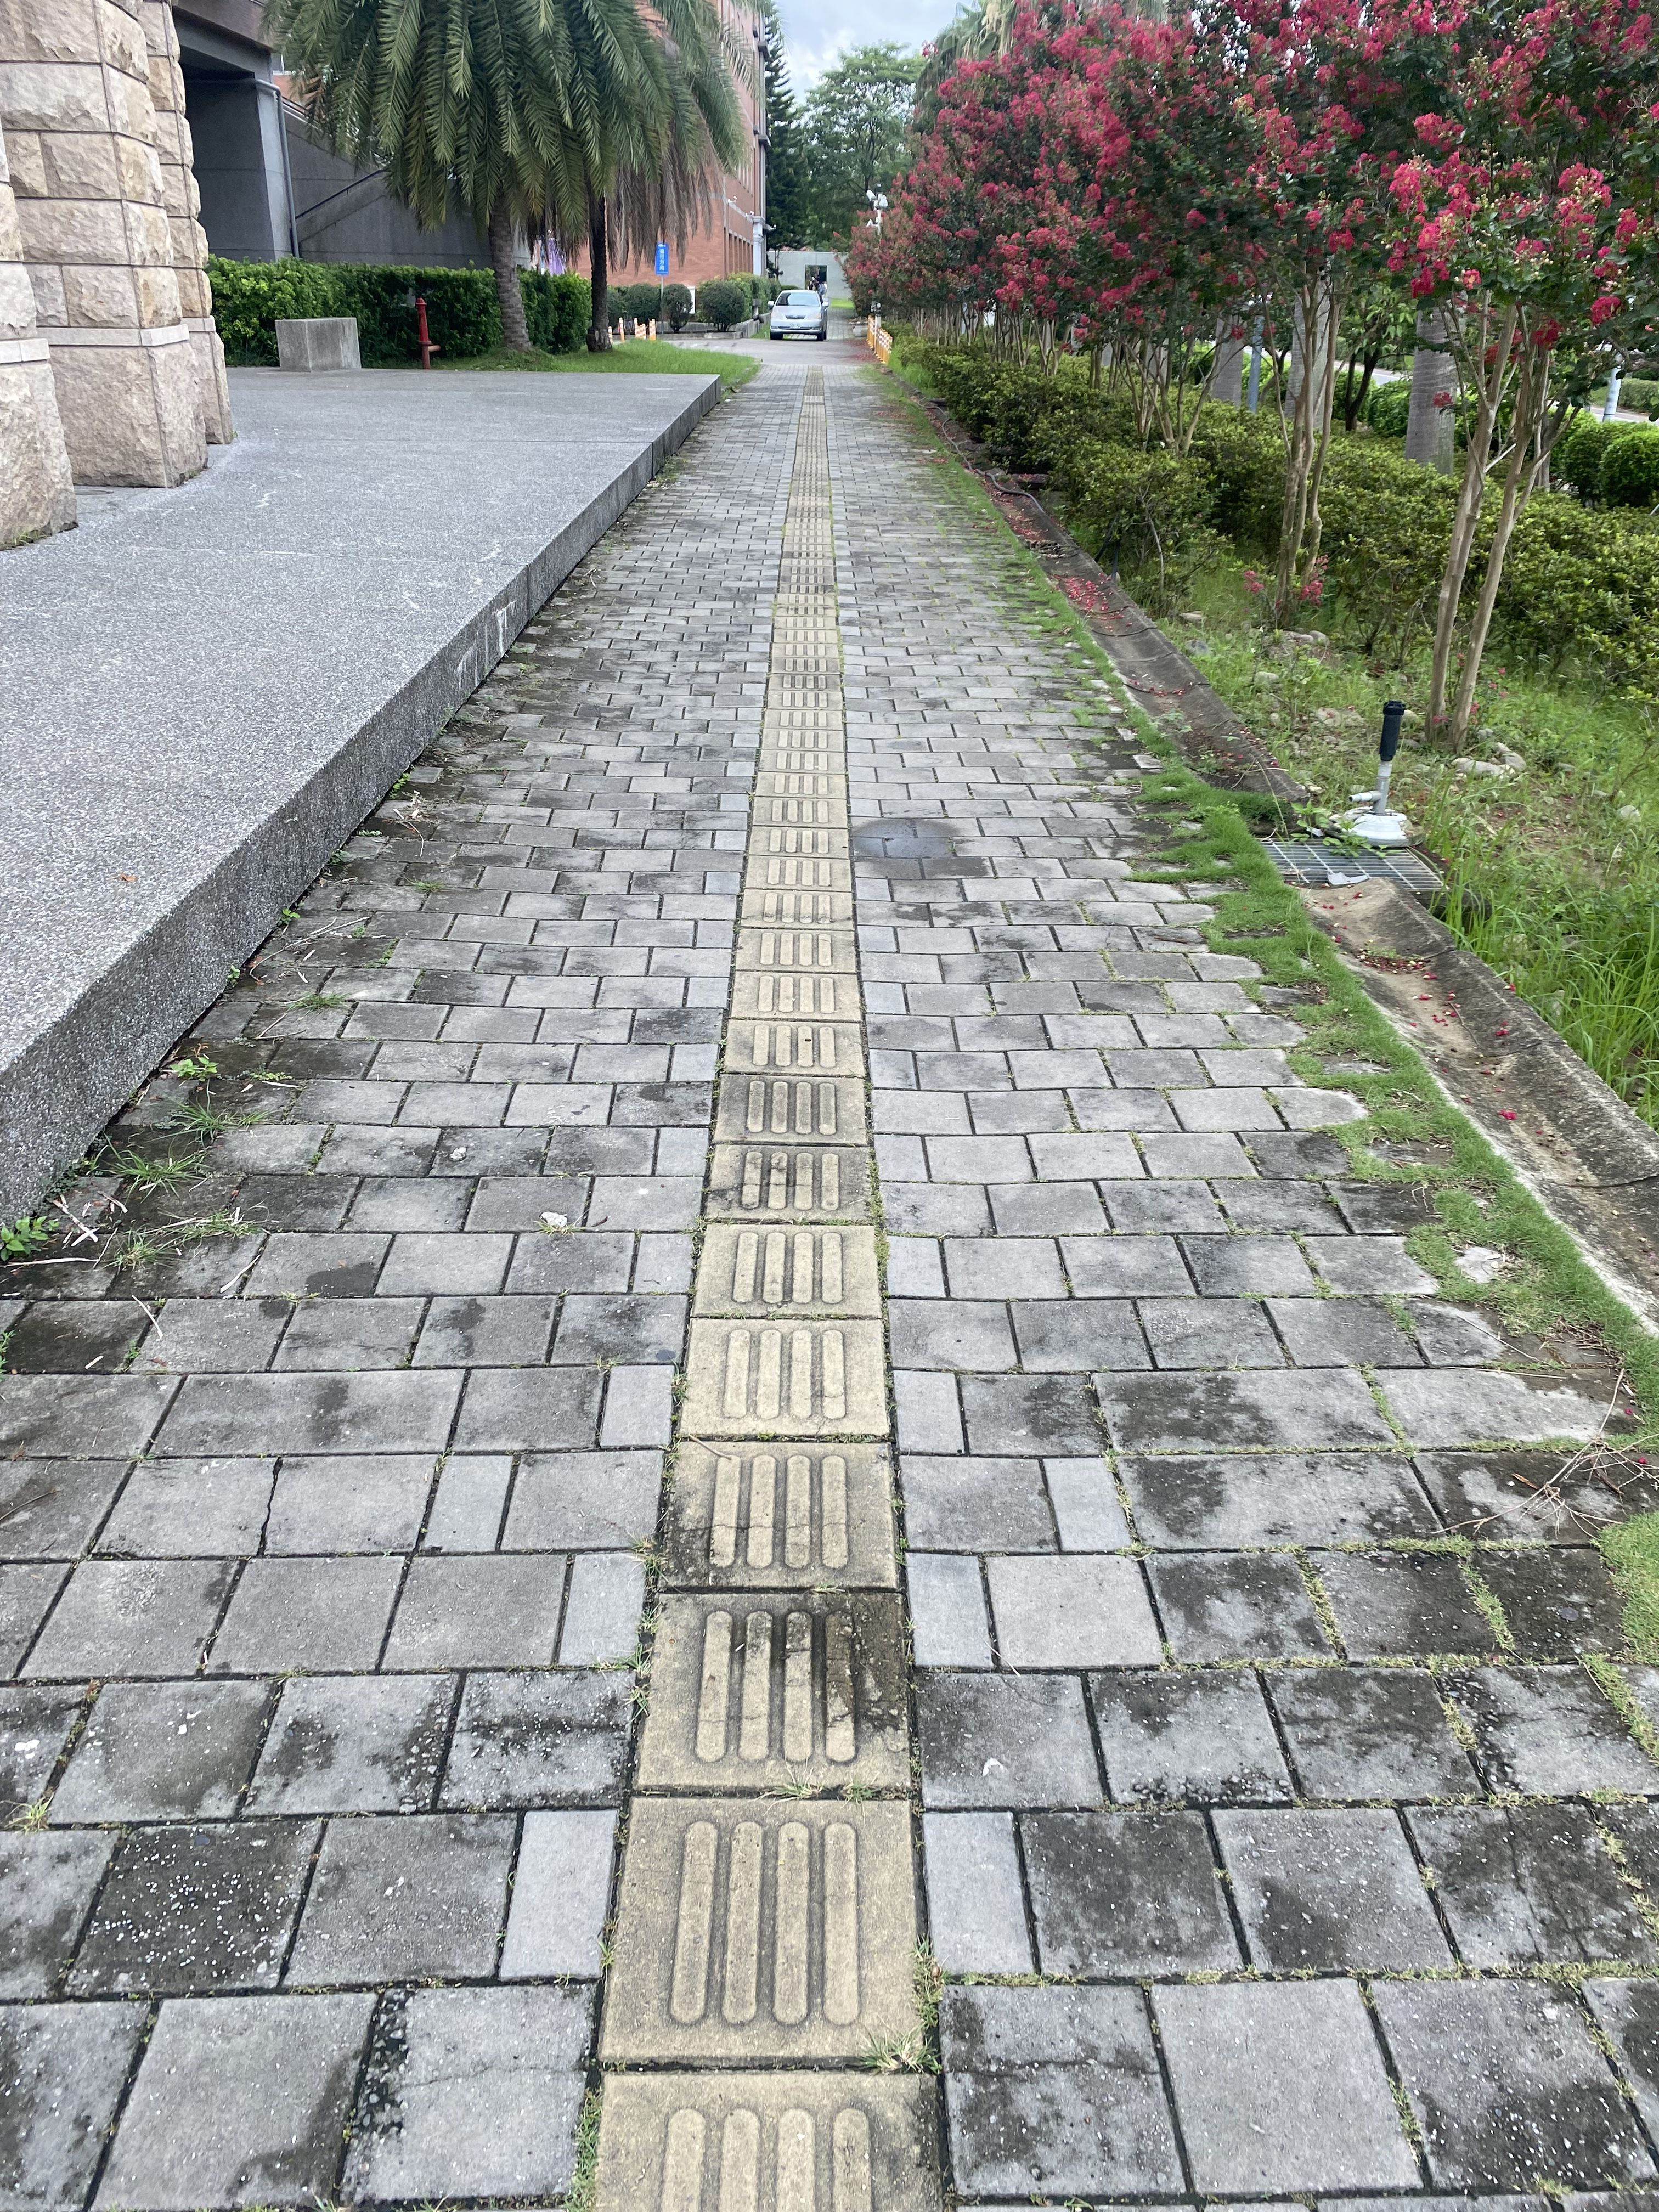0: (5, 610, 1659, 2212)
sidewalk: (599, 354, 1204, 1526)
